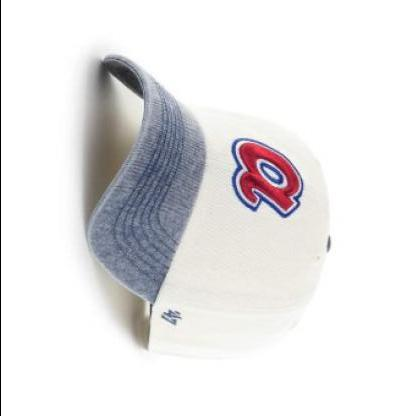cap: (81, 48, 342, 374)
